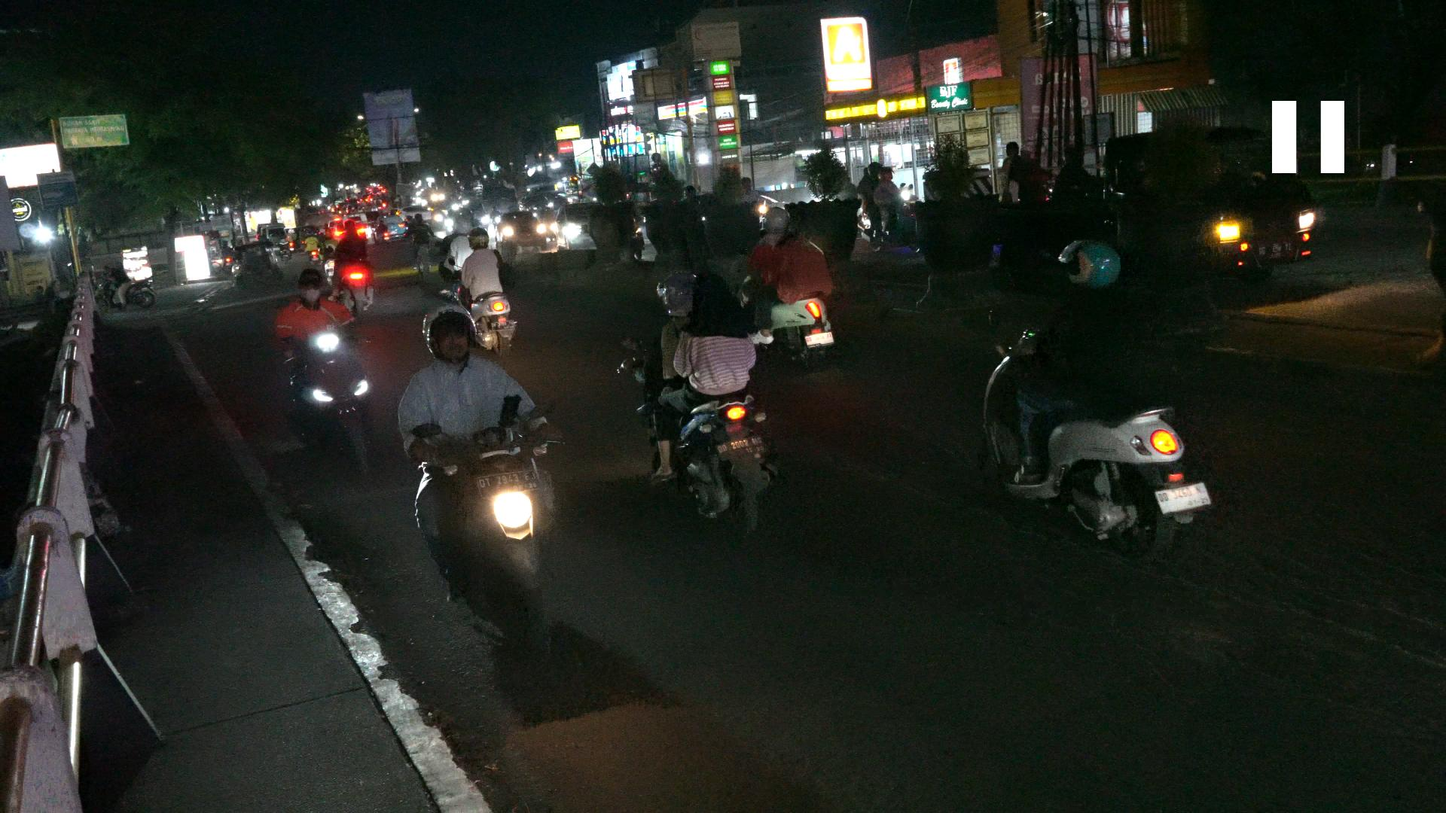number-plate: (471, 468, 542, 496)
